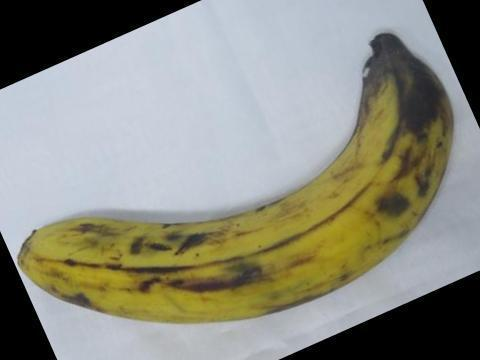overripe: (7, 22, 451, 337)
rotten: (354, 30, 455, 162)
